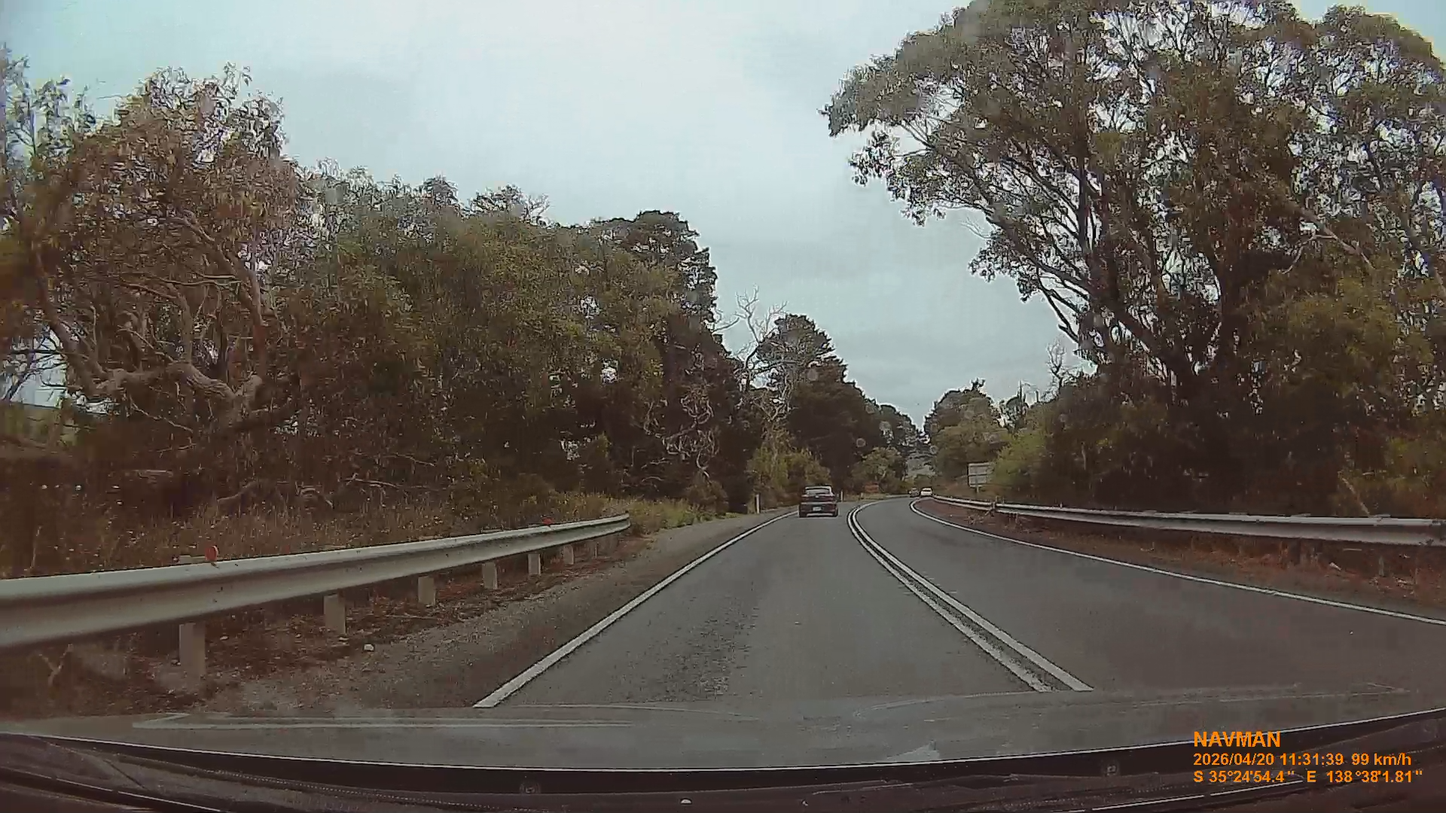road barriers: (2, 516, 629, 690), (937, 499, 1446, 566)
